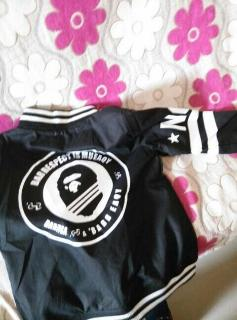long sleeve top: (0, 104, 237, 319)
